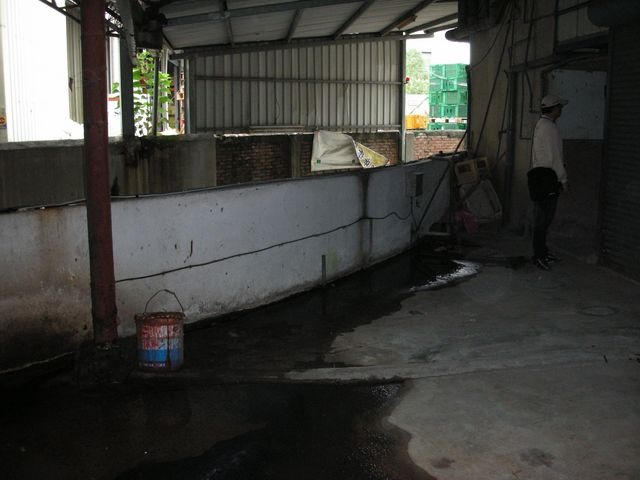bucket: (133, 307, 186, 378)
styrofoam: (458, 179, 506, 226)
